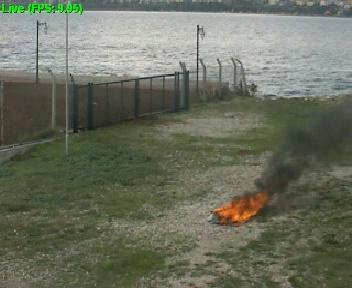fire: (218, 197, 258, 219)
smoke: (292, 115, 341, 145), (260, 153, 295, 190)
